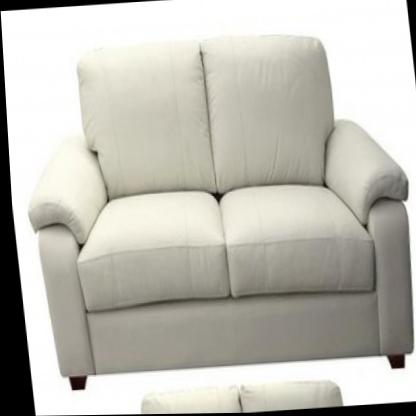Sofa: (5, 25, 416, 396)
